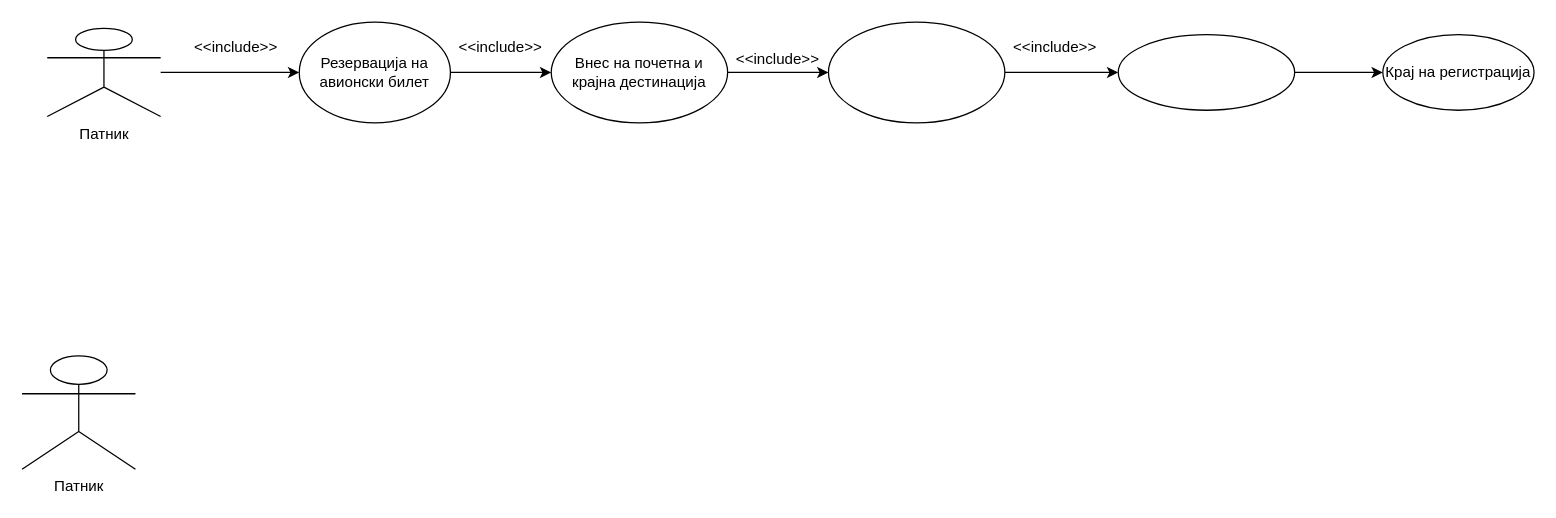
This 1556x518 diagram has some shape labels left out. Each missing label, with the box of its shape:
Внесување лични податоци: (1117, 33, 1295, 110)
Избор на посакуван лет: (827, 21, 1005, 123)
